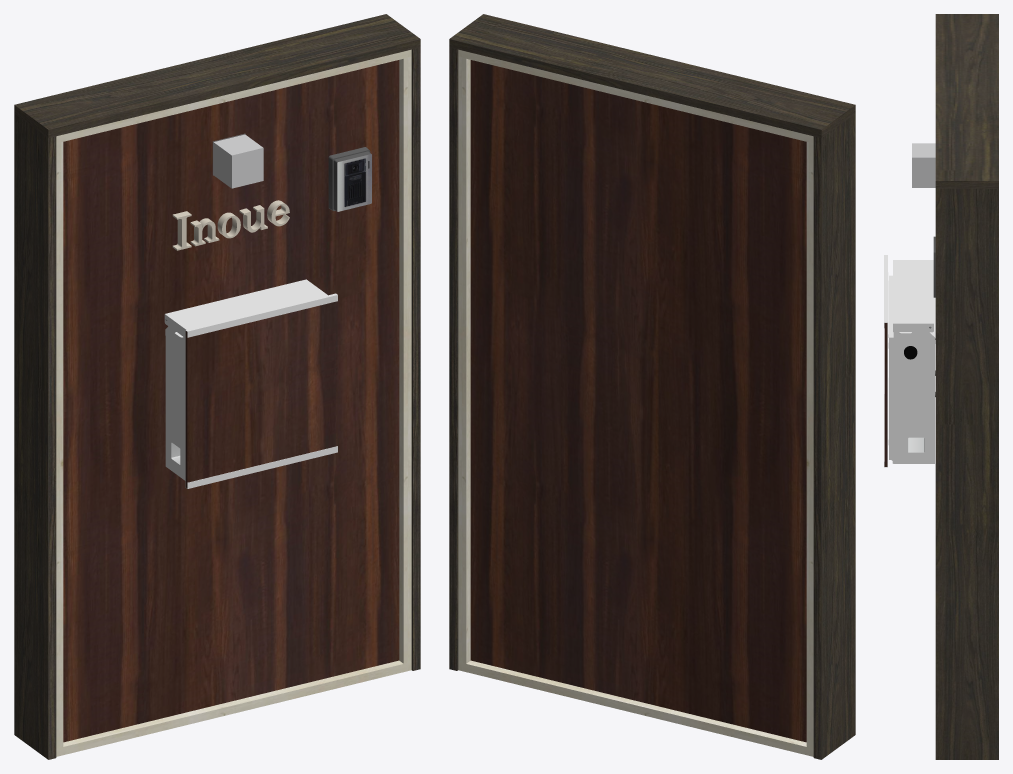
Rendered from eabmonchustyles1_organwooddark.fbx.
3 views of the same model, side by side, from view 1: azimuth 30°, elevation 25°; view 2: azimuth 150°, elevation 25°; view 3: azimuth 270°, elevation 25° (orthographic). The views are drawn at different scales.
Parts seen in each view (by area): view 1: eabmonchustyles1-orgunwooddark; view 2: eabmonchustyles1-orgunwooddark; view 3: eabmonchustyles1-orgunwooddark.
Part boxes in pixels (bbox=[...]): eabmonchustyles1-orgunwooddark: bbox=[14, 14, 420, 759]; eabmonchustyles1-orgunwooddark: bbox=[449, 14, 855, 759]; eabmonchustyles1-orgunwooddark: bbox=[884, 14, 998, 759].
Size of the model in its own units: 94 by 152 by 27.3.
Materials: 13 (4 with a texture image).
